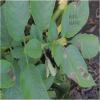Potato leaf early blight: (59, 43, 97, 86), (61, 0, 90, 39), (68, 33, 99, 59), (0, 60, 16, 88)
